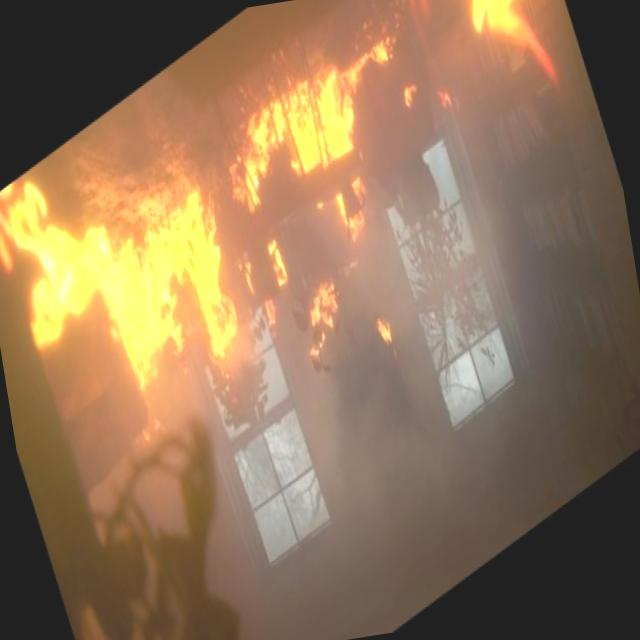fire: (0, 0, 621, 471)
